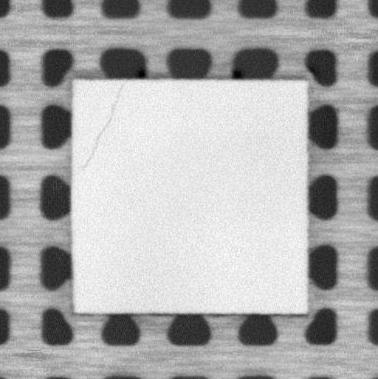DIE_CRACK: (82, 83, 125, 165)
